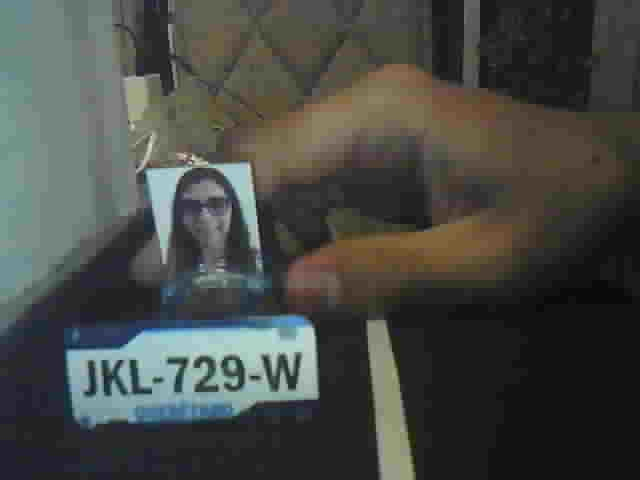PLACA: (61, 312, 322, 431)
ROSTRO: (166, 170, 263, 281)
